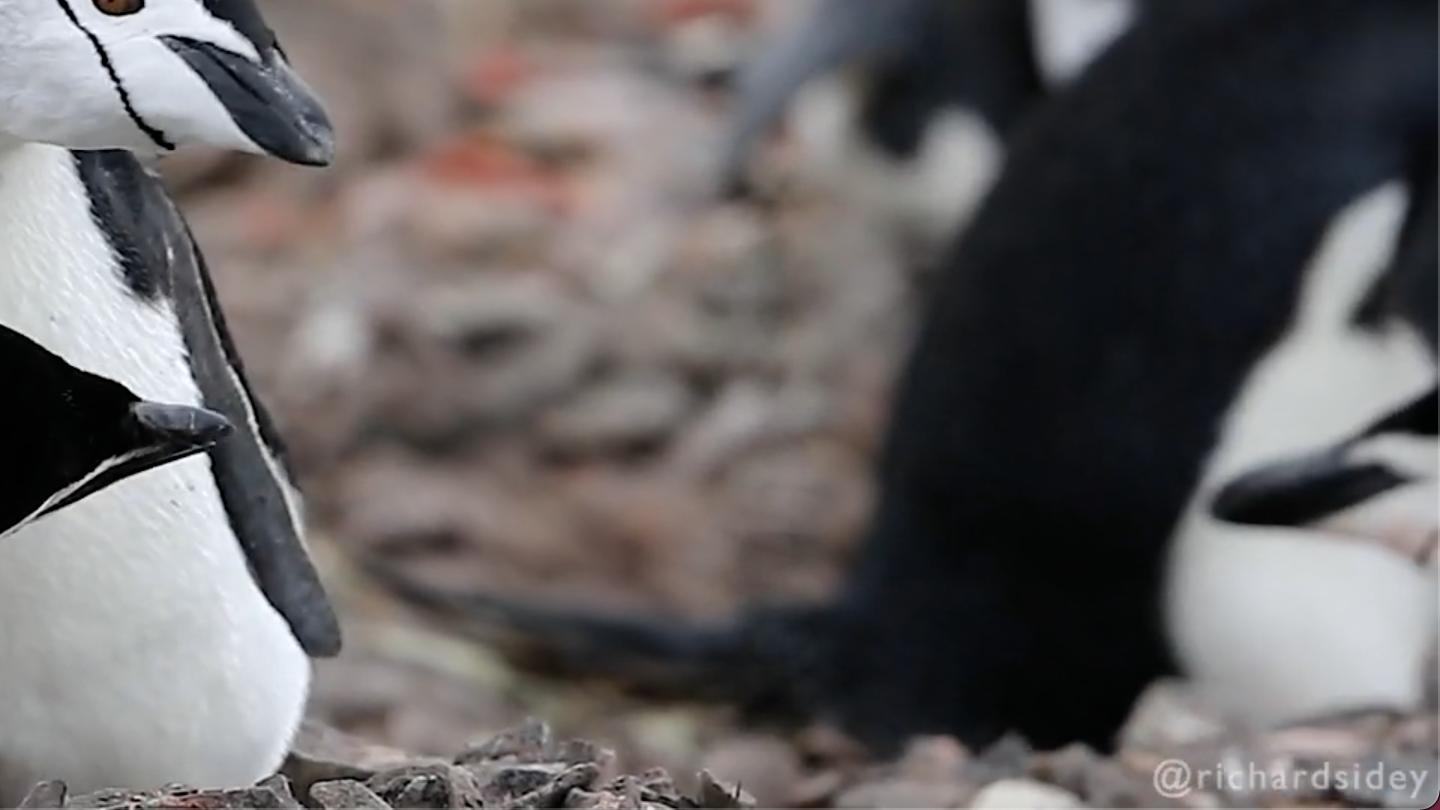Chinstrap Penguin: (0, 143, 286, 776), (0, 0, 371, 226), (1167, 350, 1440, 537)
